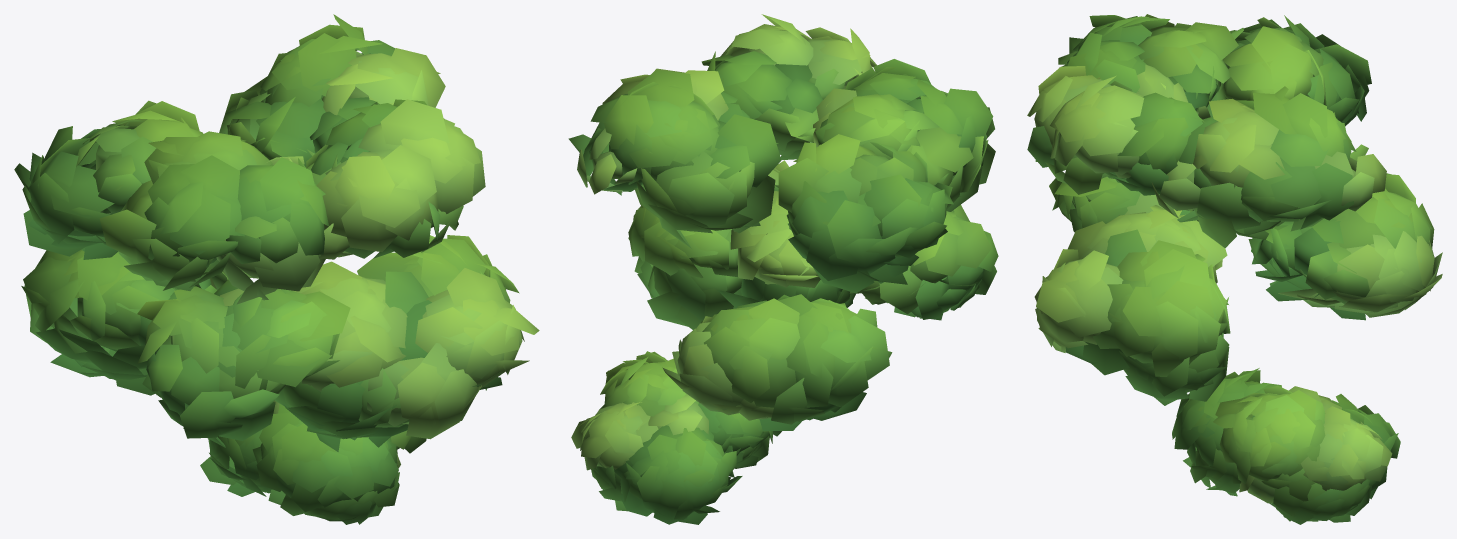
Rendered from zon_lookout_leaves_raw.glb.
3 views of the same model, side by side, from view 1: azimuth 30°, elevation 25°; view 2: azimuth 150°, elevation 25°; view 3: azimuth 270°, elevation 25° (orthographic). The views are drawn at different scales.
Visible parts, largest first — view 1: SM_zon_lookout_leaves_veg_leaf_clip_x0_zm1_raw; view 2: SM_zon_lookout_leaves_veg_leaf_clip_x0_zm1_raw; view 3: SM_zon_lookout_leaves_veg_leaf_clip_x0_zm1_raw.
Boxes of the visible parts, x1,y1,x2,y2 form: SM_zon_lookout_leaves_veg_leaf_clip_x0_zm1_raw: (14, 14, 539, 524); SM_zon_lookout_leaves_veg_leaf_clip_x0_zm1_raw: (568, 14, 998, 524); SM_zon_lookout_leaves_veg_leaf_clip_x0_zm1_raw: (1027, 14, 1442, 524).
Size of the model in its own units: 19.26 by 21.74 by 19.07.
